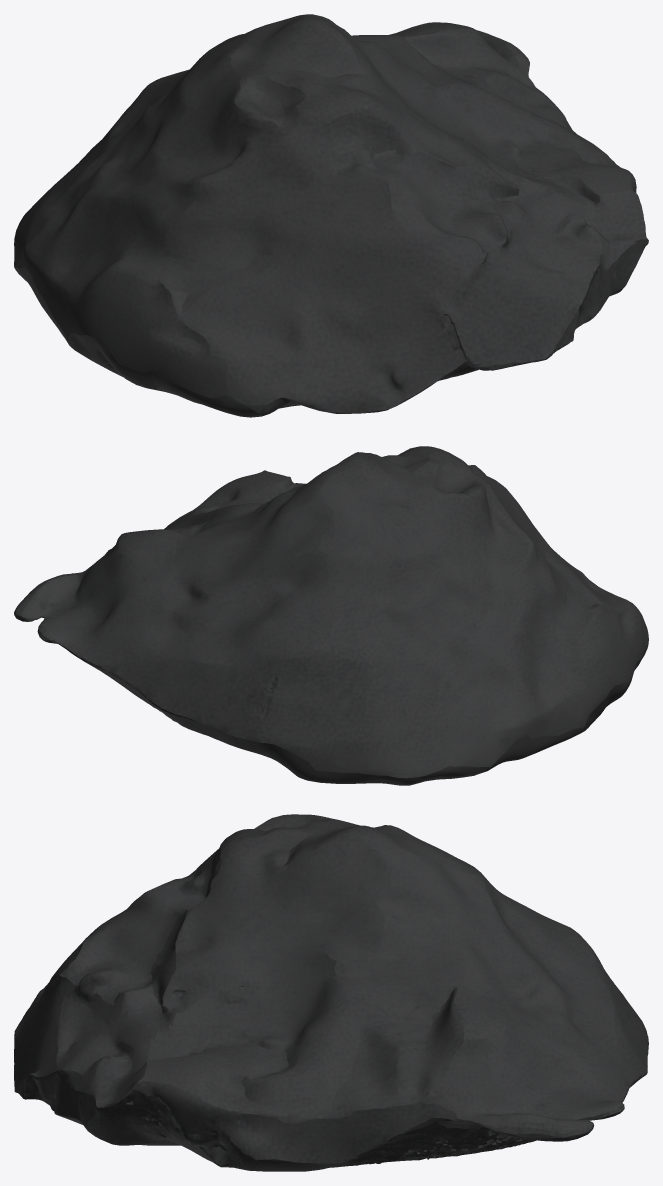
The picture shows the model from 3 angles, top to bottom: view 1: azimuth 30°, elevation 25°; view 2: azimuth 150°, elevation 25°; view 3: azimuth 270°, elevation 25°; orthographic projection. The views are drawn at different scales.
Parts seen in each view (by area): view 1: world; view 2: world; view 3: world.
Part boxes in pixels (box(x1,y1,x2,y2)): world: box(14, 14, 648, 417); world: box(14, 446, 648, 785); world: box(14, 814, 648, 1171).
Bounding box in the file's own units: 1.2 × 0.5585 × 1.2.
1 material, 1 textured.
